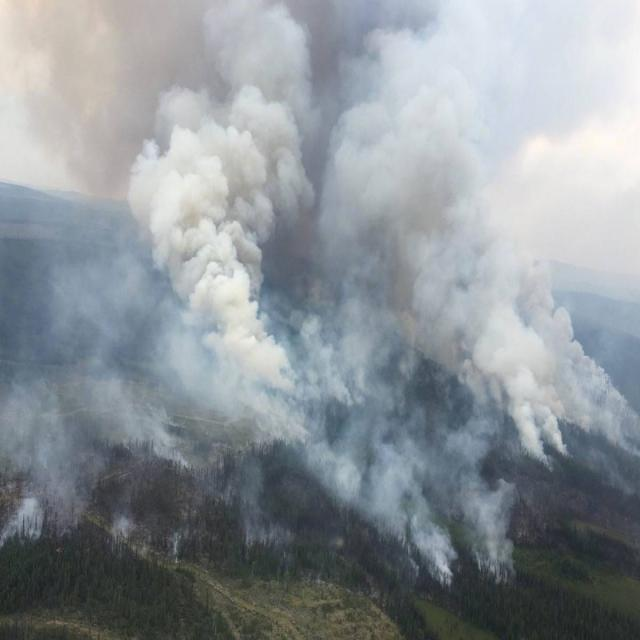Smoke: (36, 62, 625, 590)
